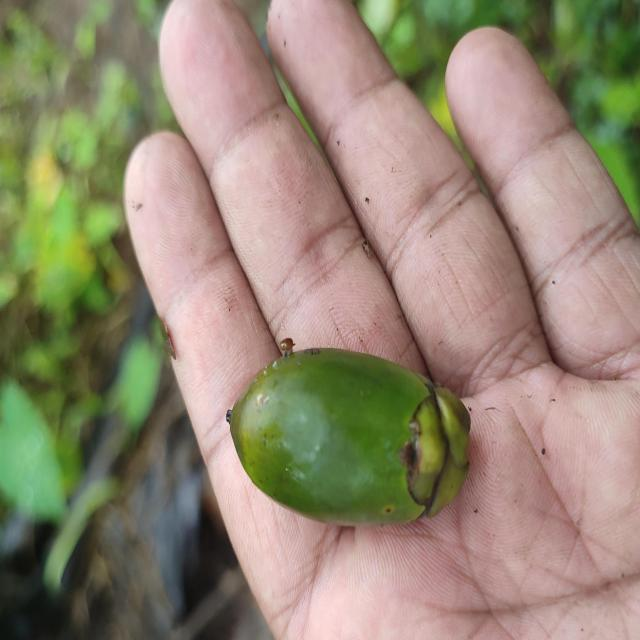damaged: (225, 348, 473, 530)
